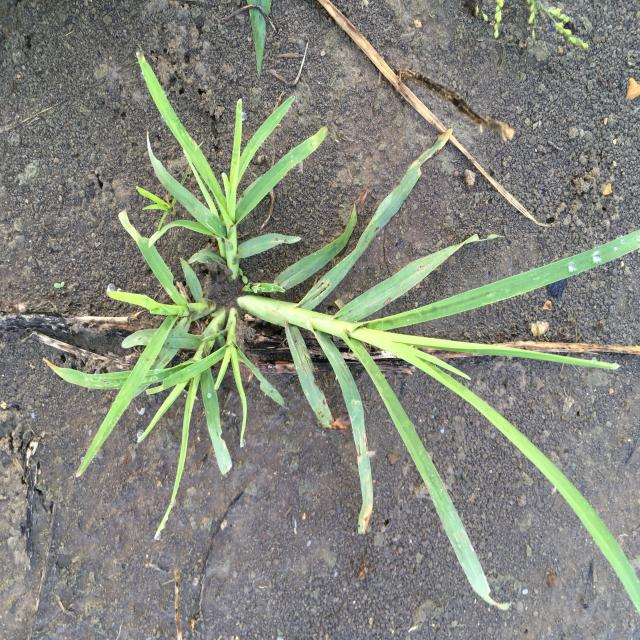Goosegrass: (40, 49, 639, 621)
